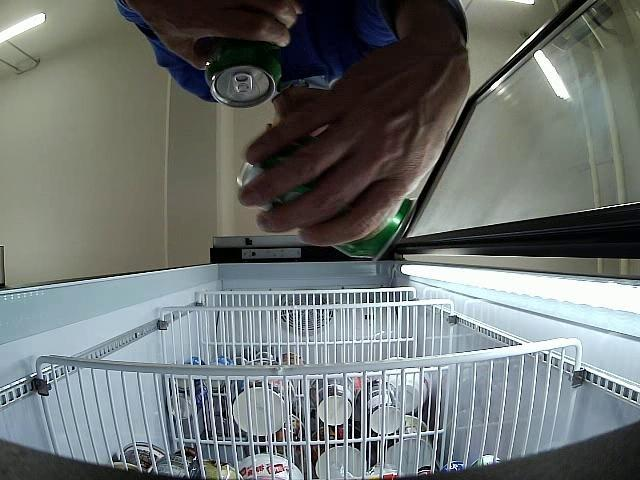12_chilsungCider: (235, 134, 418, 264), (206, 38, 283, 110)
